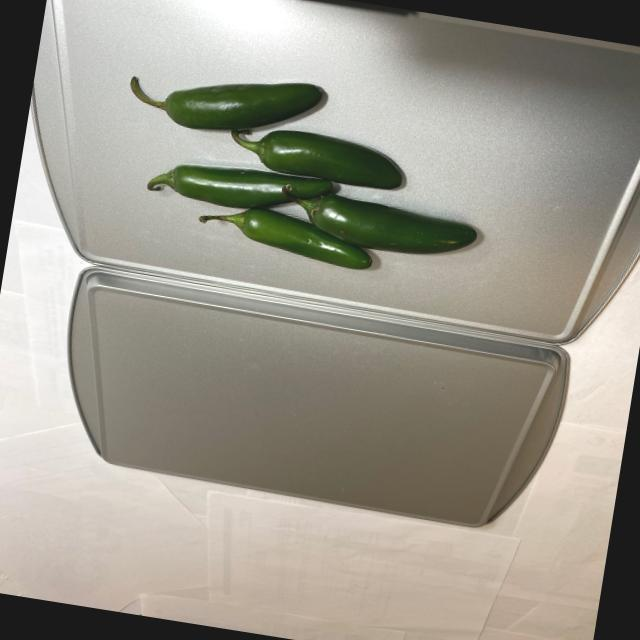chilli: (99, 58, 498, 293)
